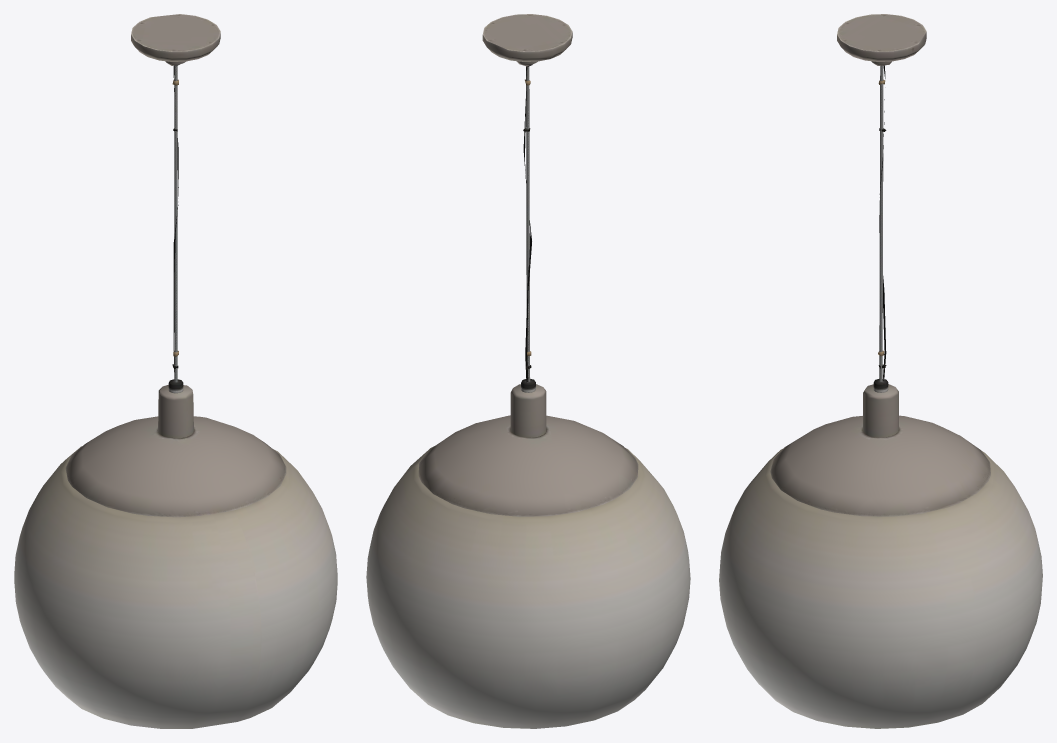
File: modern_ceiling_lamp_01.glb
3 views of the same model, side by side, from view 1: azimuth 30°, elevation 25°; view 2: azimuth 150°, elevation 25°; view 3: azimuth 270°, elevation 25° (orthographic).
Visible parts, largest first — view 1: modern_ceiling_lamp_01; view 2: modern_ceiling_lamp_01; view 3: modern_ceiling_lamp_01.
Boxes of the visible parts, x1=… form: modern_ceiling_lamp_01: x1=14, y1=14, x2=337, y2=728; modern_ceiling_lamp_01: x1=366, y1=14, x2=690, y2=728; modern_ceiling_lamp_01: x1=719, y1=14, x2=1042, y2=728.
Size of the model in its own units: 0.4316 by 0.9512 by 0.4316.
Materials: 2 (2 with a texture image).
